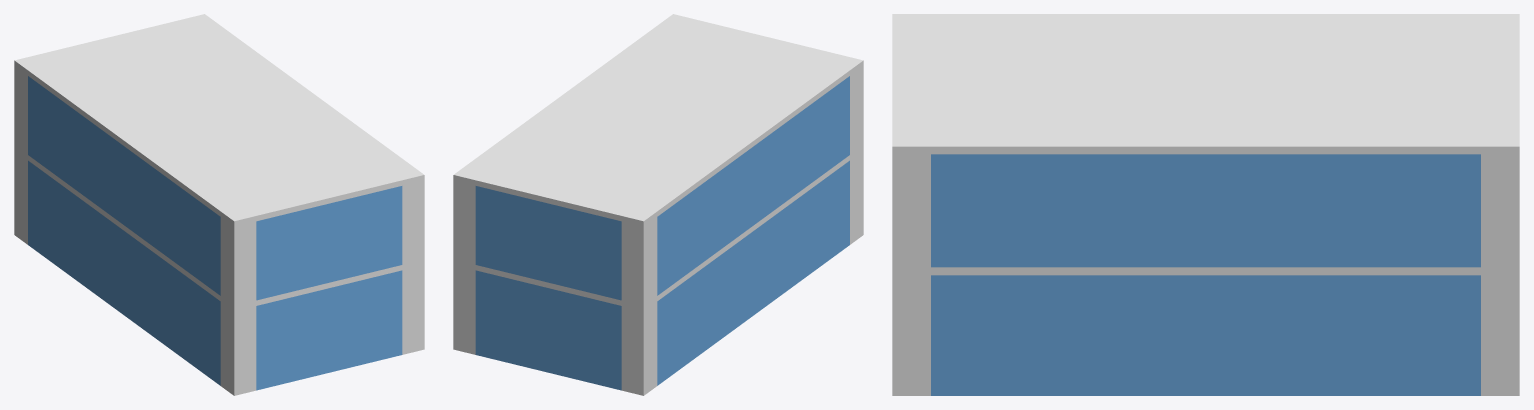
File: building_1x2_6_f.glb
3 renders of one model, left to right at view 1: azimuth 30°, elevation 25°; view 2: azimuth 150°, elevation 25°; view 3: azimuth 270°, elevation 25°, orthographic. The views are drawn at different scales.
Parts seen in each view (by area): view 1: Cube.001; view 2: Cube.001; view 3: Cube.001.
Part boxes in pixels (<box>): Cube.001: <box>14,14,424,395</box>; Cube.001: <box>453,14,863,395</box>; Cube.001: <box>892,14,1519,395</box>.
Size of the model in its own units: 1.82 by 1.6 by 3.65.
